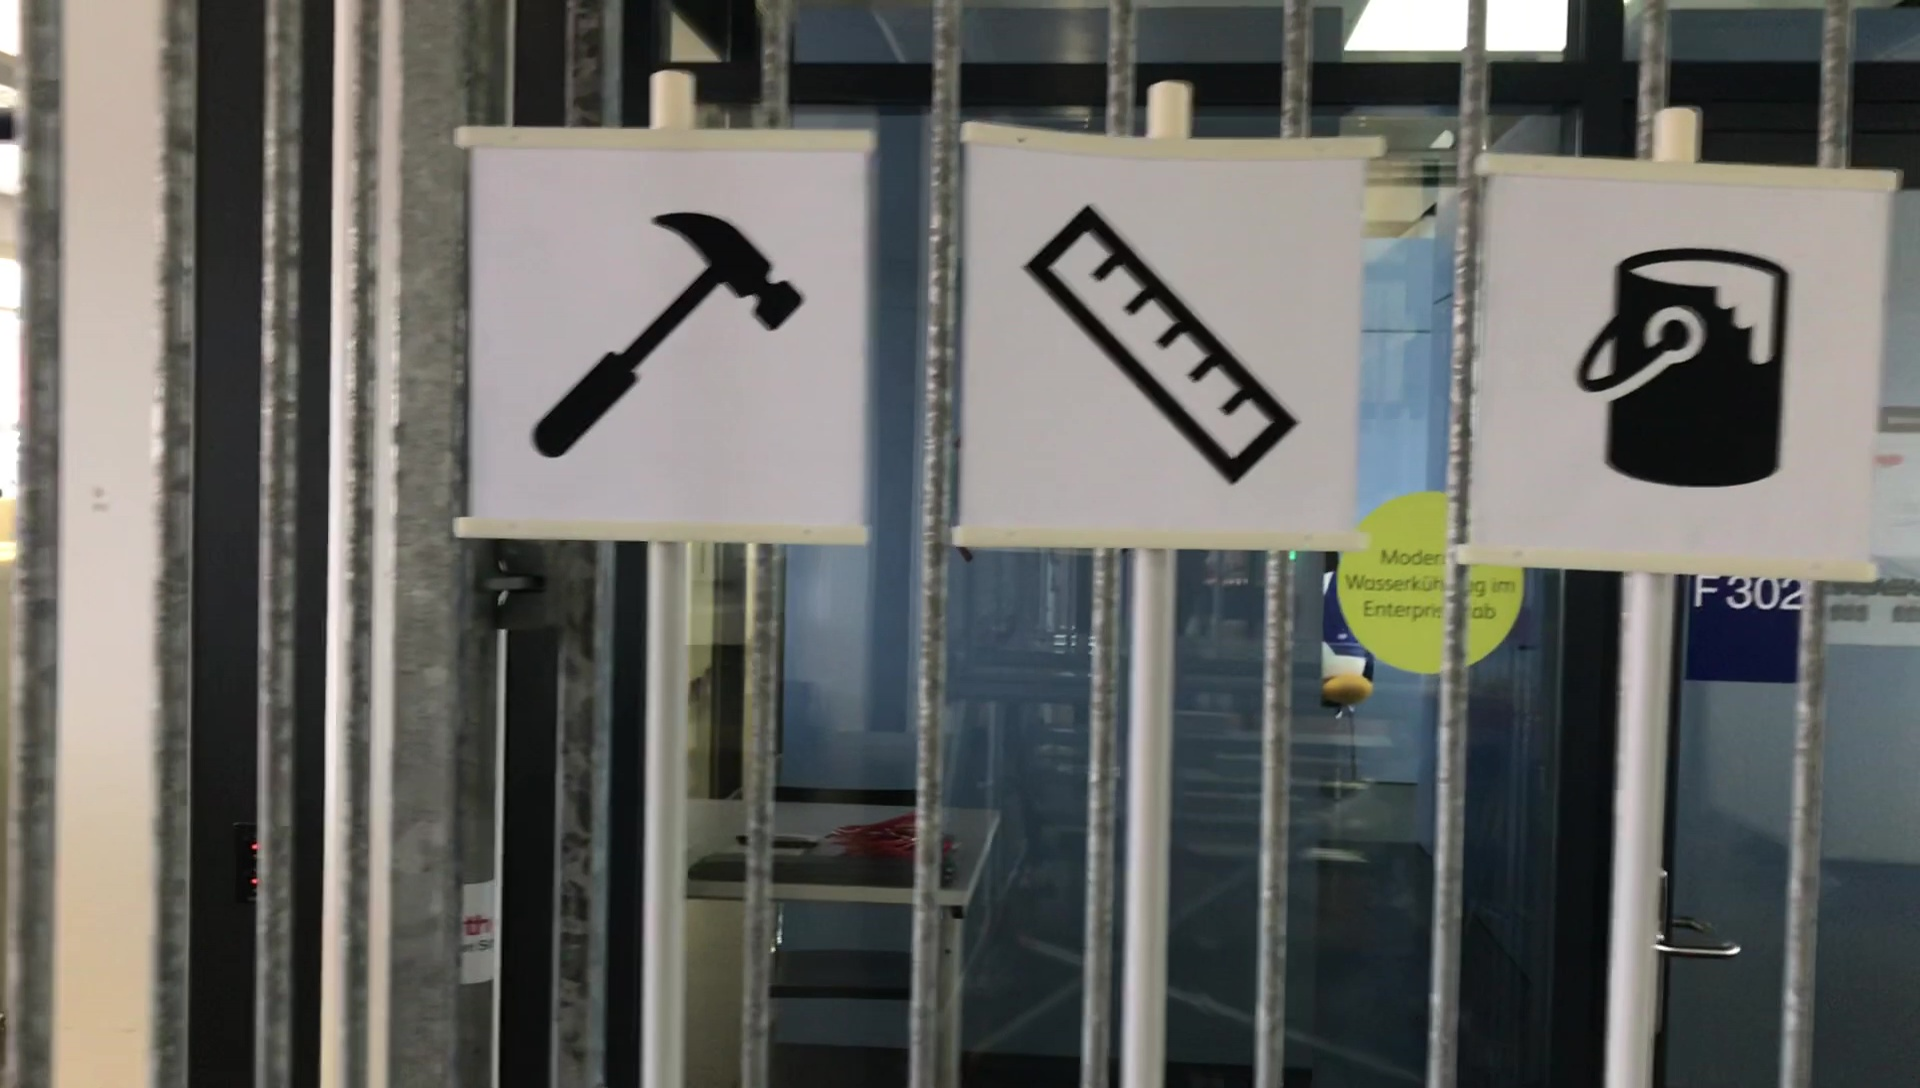bucket: (1572, 239, 1793, 497)
hammer: (521, 195, 808, 462)
ruler: (1022, 198, 1305, 500)
